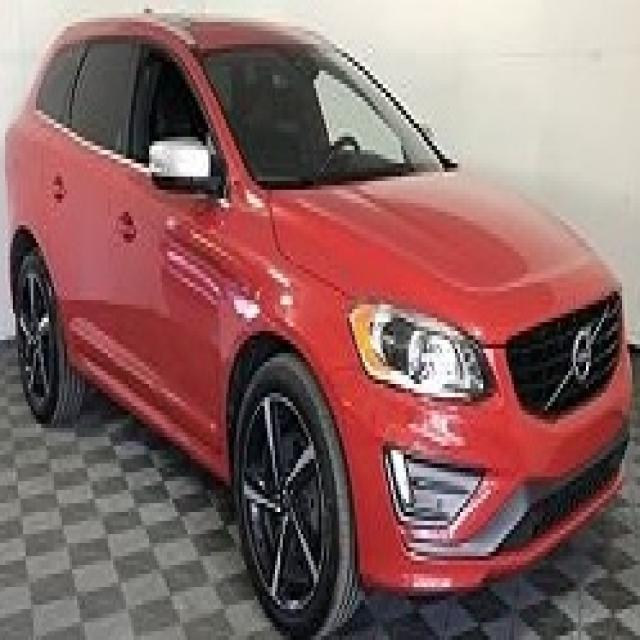red: (13, 9, 640, 573)
